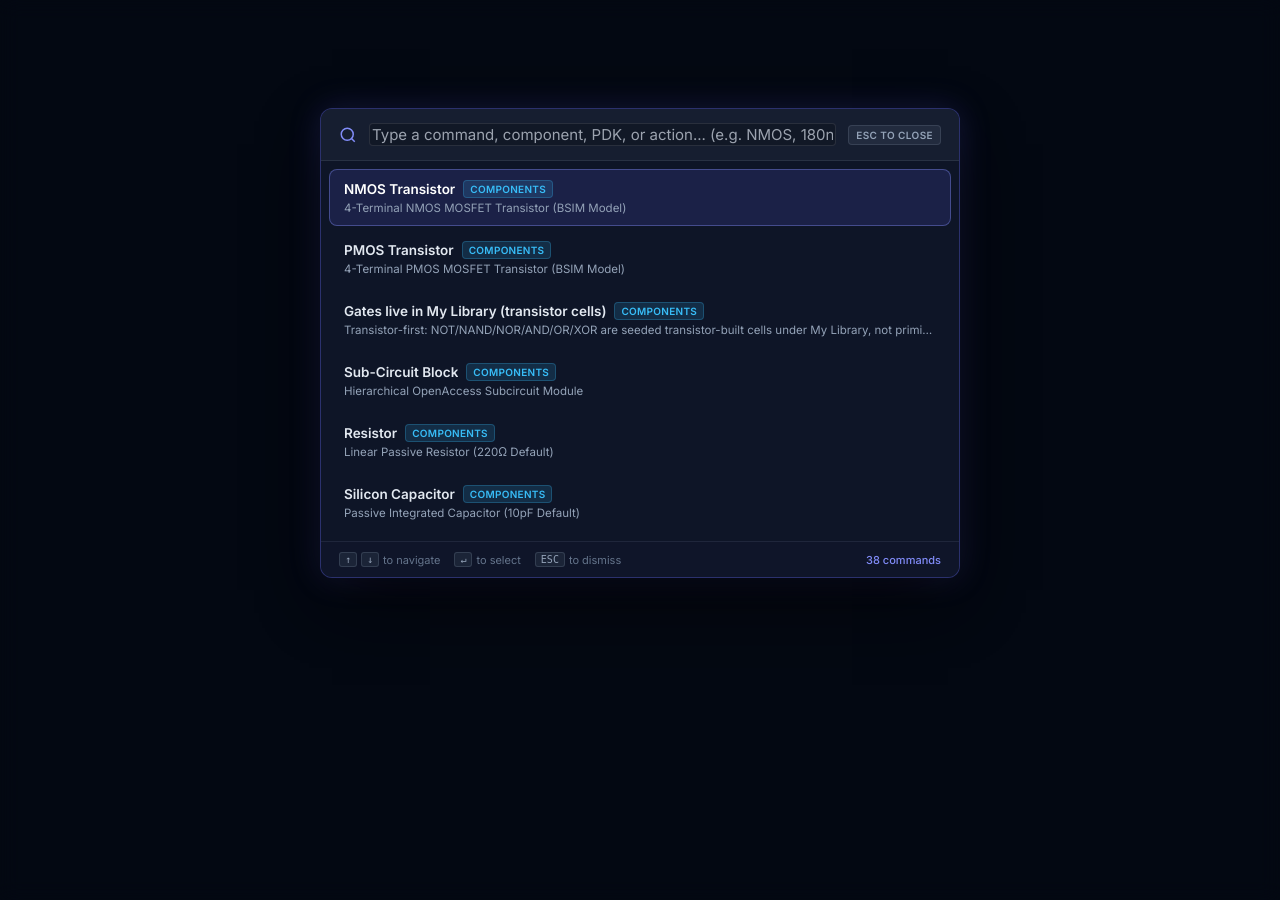
Test: CommandPaletteModal and fuzzyScore › CommandPaletteModal component › shows empty state when no commands match query
Replace the text in the field with placeholder "Type a command" with "xyz123nonexistent" at (603, 134), box [369, 123, 836, 146]
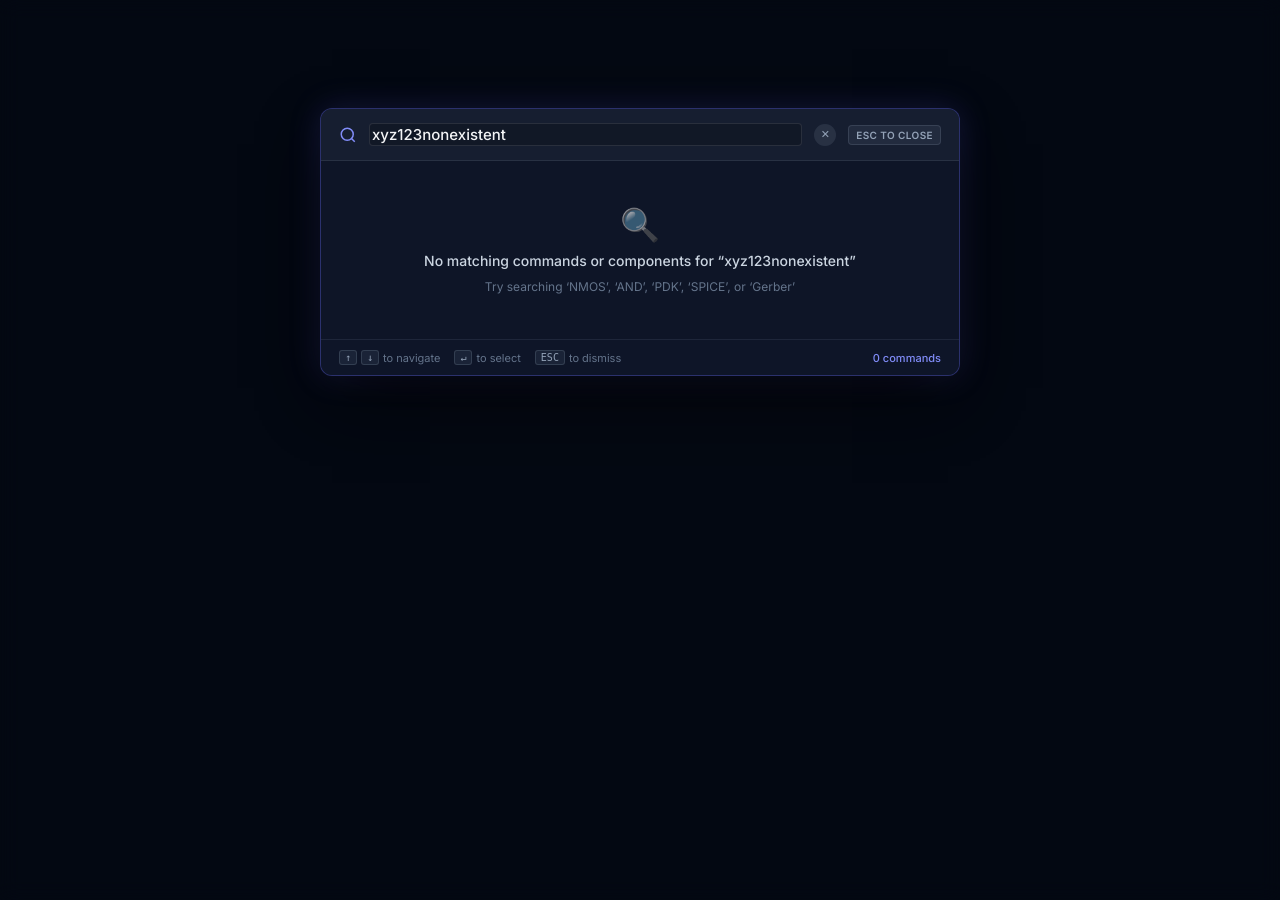
Check: the text "No matching commands or components for “xyz123nonexistent”" is shown, box [424, 252, 856, 269]
